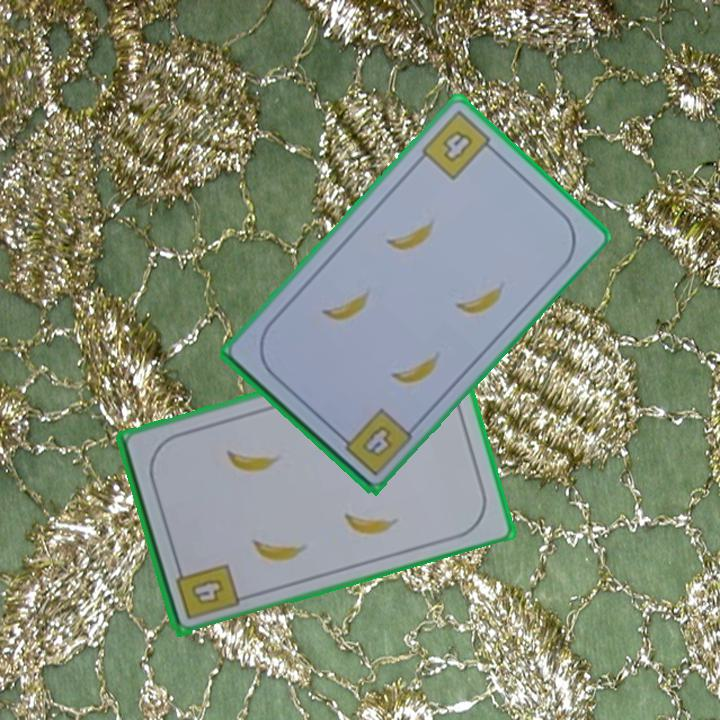4b: (418, 106, 500, 183), (333, 404, 416, 479), (172, 559, 242, 623)
